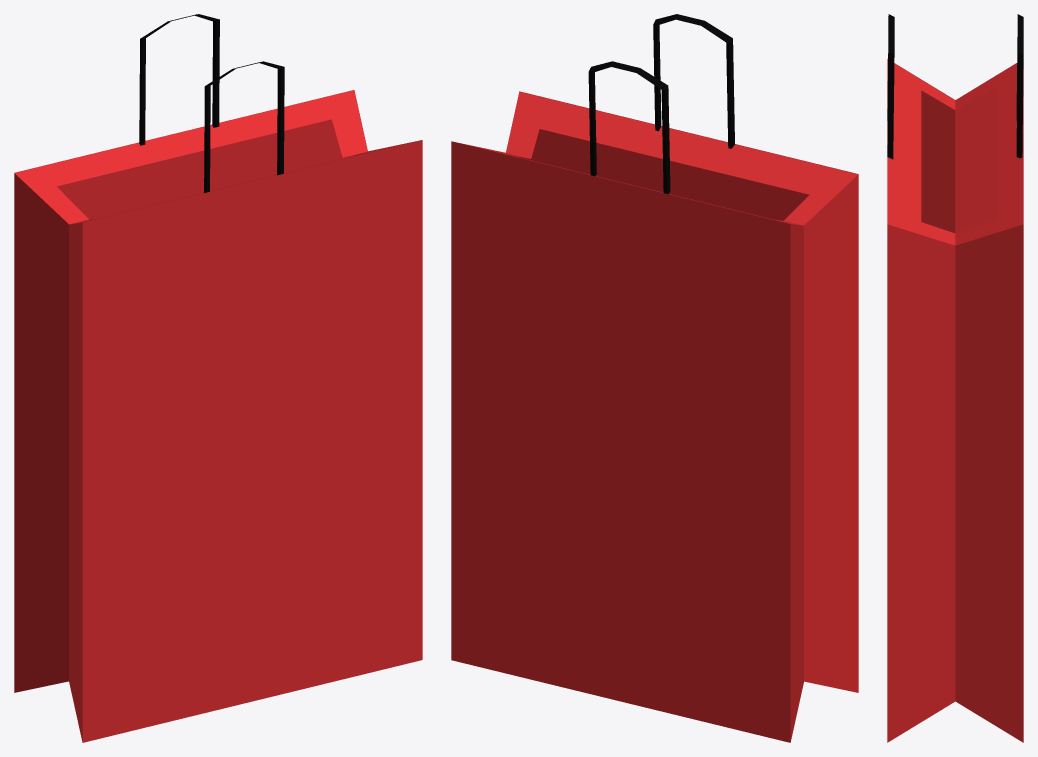
File: ShoppingBag_5.fbx
3 renders of one model, left to right at view 1: azimuth 30°, elevation 25°; view 2: azimuth 150°, elevation 25°; view 3: azimuth 270°, elevation 25°, orthographic.
Visible parts, largest first — view 1: Cube; view 2: Cube; view 3: Cube.
Part boxes in pixels (x1=…): Cube: x1=14, y1=14, x2=422, y2=742; Cube: x1=451, y1=14, x2=858, y2=742; Cube: x1=887, y1=14, x2=1023, y2=742.
Size of the model in its own units: 200 by 358 by 69.67.
